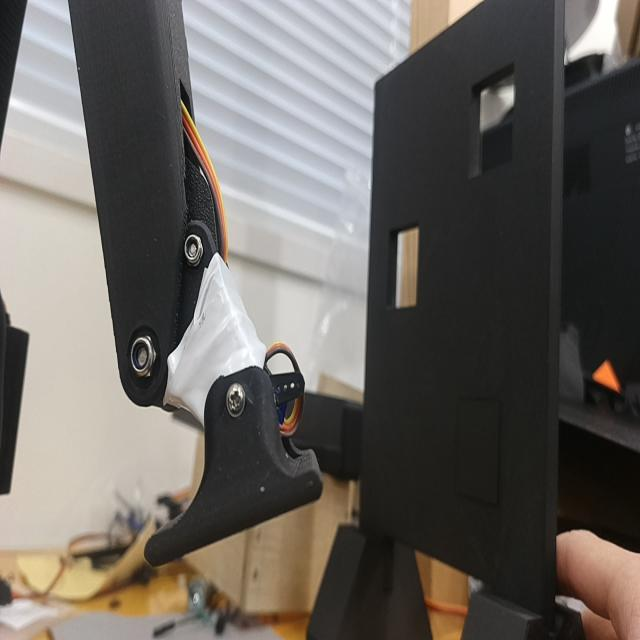Obstacle: (465, 69, 513, 185), (389, 225, 421, 309)
